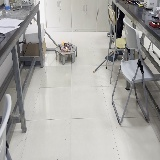fire: (60, 37, 68, 51)
